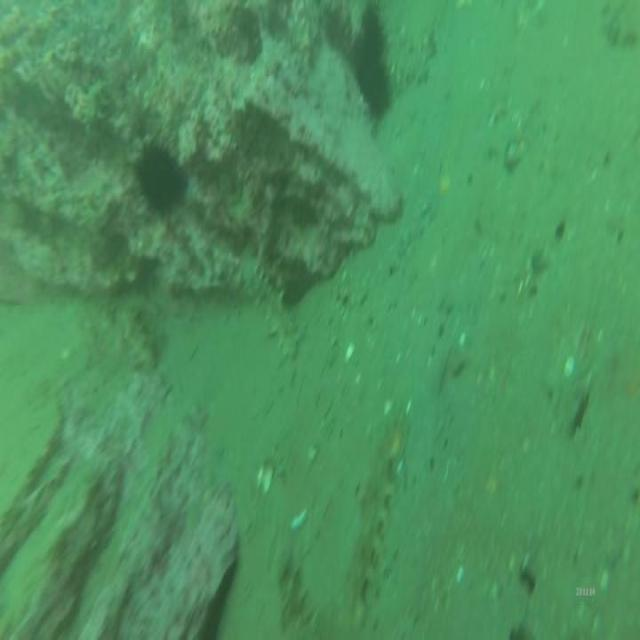echinus: (127, 130, 191, 222), (350, 0, 398, 122)
holothurian: (348, 408, 408, 613), (113, 300, 163, 376), (260, 280, 304, 364)
